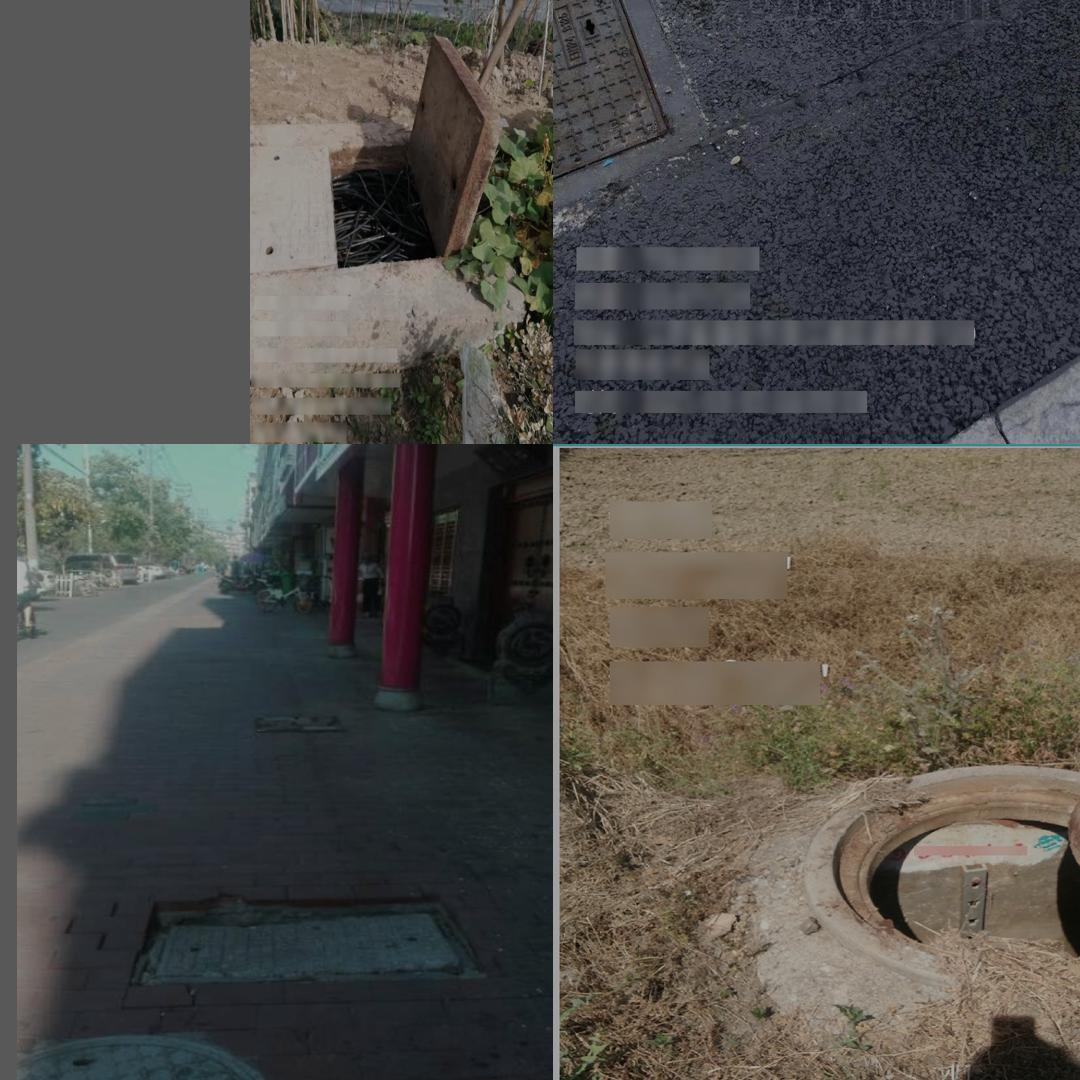good: (18, 1032, 287, 1080)
uncovered: (789, 732, 1080, 1005), (278, 31, 511, 277), (124, 892, 484, 990)
